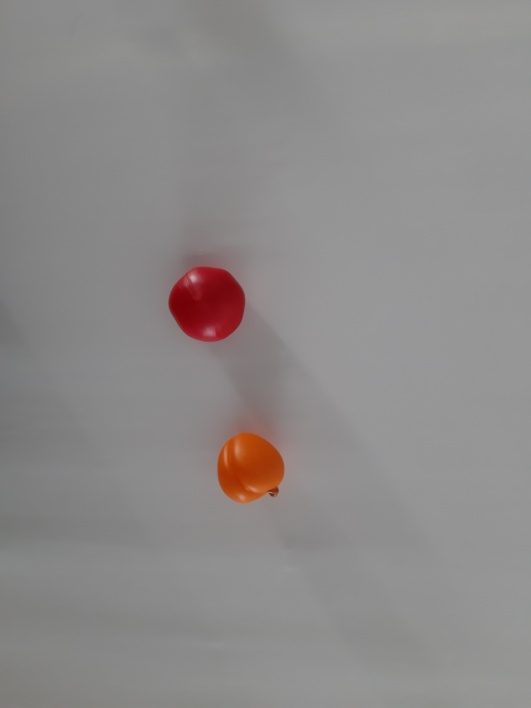apricot: (194, 418, 307, 520)
tomato: (156, 257, 264, 361)
